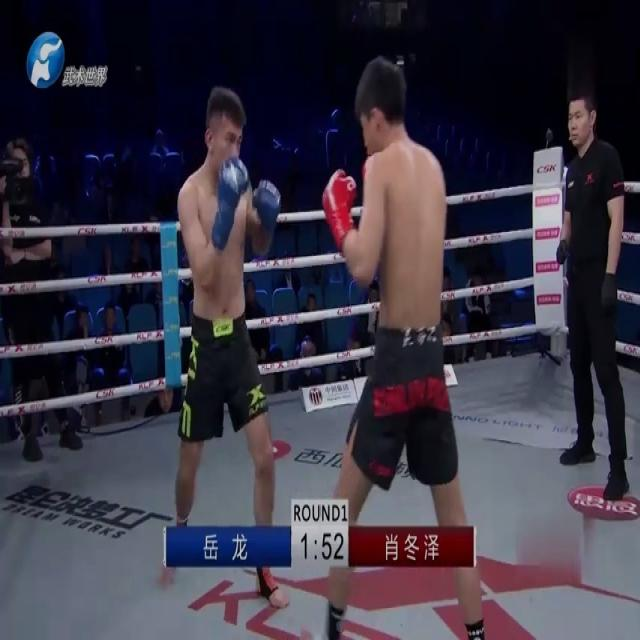fight: (155, 44, 490, 640)
non-fight: (544, 80, 639, 512), (0, 135, 86, 461)
